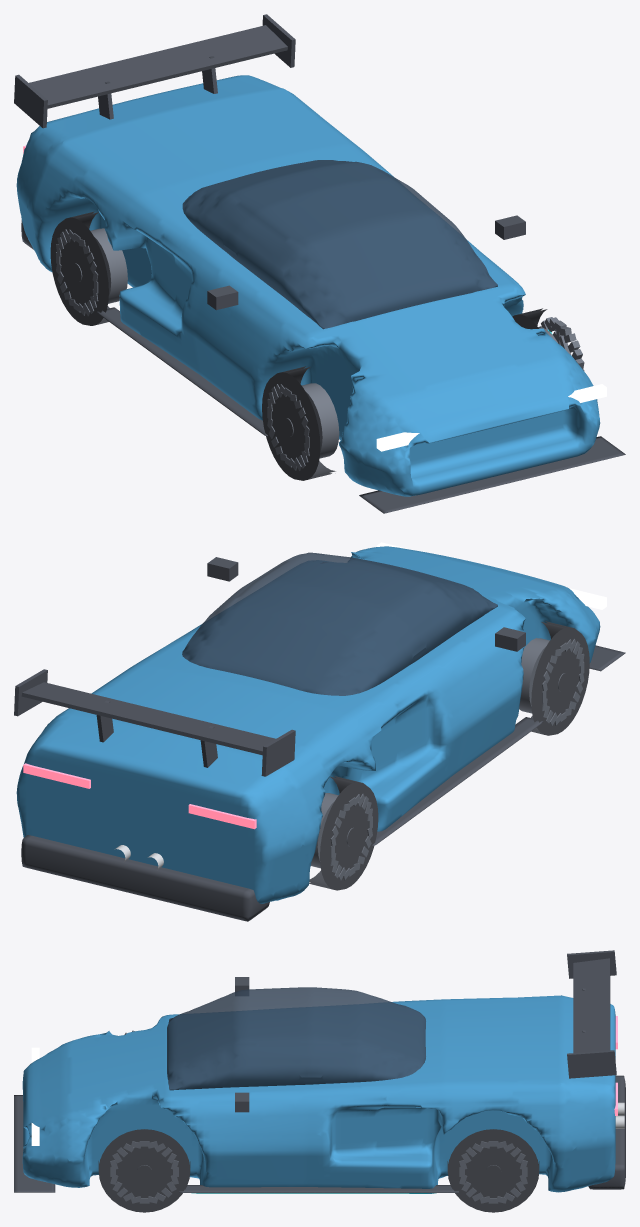
The model's file is aurelia.glb.
3 views of the same model, one above another, from view 1: azimuth 30°, elevation 25°; view 2: azimuth 150°, elevation 25°; view 3: azimuth 270°, elevation 25° (orthographic). The views are drawn at different scales.
Visible parts, largest first — view 1: Bodywork, CanopyGlass, CarbonAero (×3), TireRubber, ForgedRim, HeadlightLED; view 2: Bodywork, CanopyGlass, CarbonAero (×3), TireRubber, ForgedRim, TaillightLED; view 3: Bodywork, CanopyGlass, CarbonAero (×3), TireRubber, ForgedRim.
Boxes of the visible parts, x1,y1,x2,y2 form: Bodywork: (16, 75, 600, 496); CanopyGlass: (182, 160, 497, 329); CarbonAero (×3): (14, 14, 625, 513); TireRubber: (50, 211, 547, 480); ForgedRim: (56, 228, 584, 470); HeadlightLED: (376, 384, 606, 451); Bodywork: (16, 546, 600, 903); CanopyGlass: (182, 552, 497, 695); CarbonAero (×3): (14, 557, 625, 921); TireRubber: (309, 621, 589, 890); ForgedRim: (310, 638, 584, 880); TaillightLED: (23, 763, 256, 829); Bodywork: (22, 995, 615, 1193); CanopyGlass: (167, 987, 425, 1090); CarbonAero (×3): (14, 950, 625, 1192); TireRubber: (98, 1129, 539, 1212); ForgedRim: (110, 1030, 527, 1203).
Bounding box in the file's own units: 2.25 × 1.33 × 4.67.
